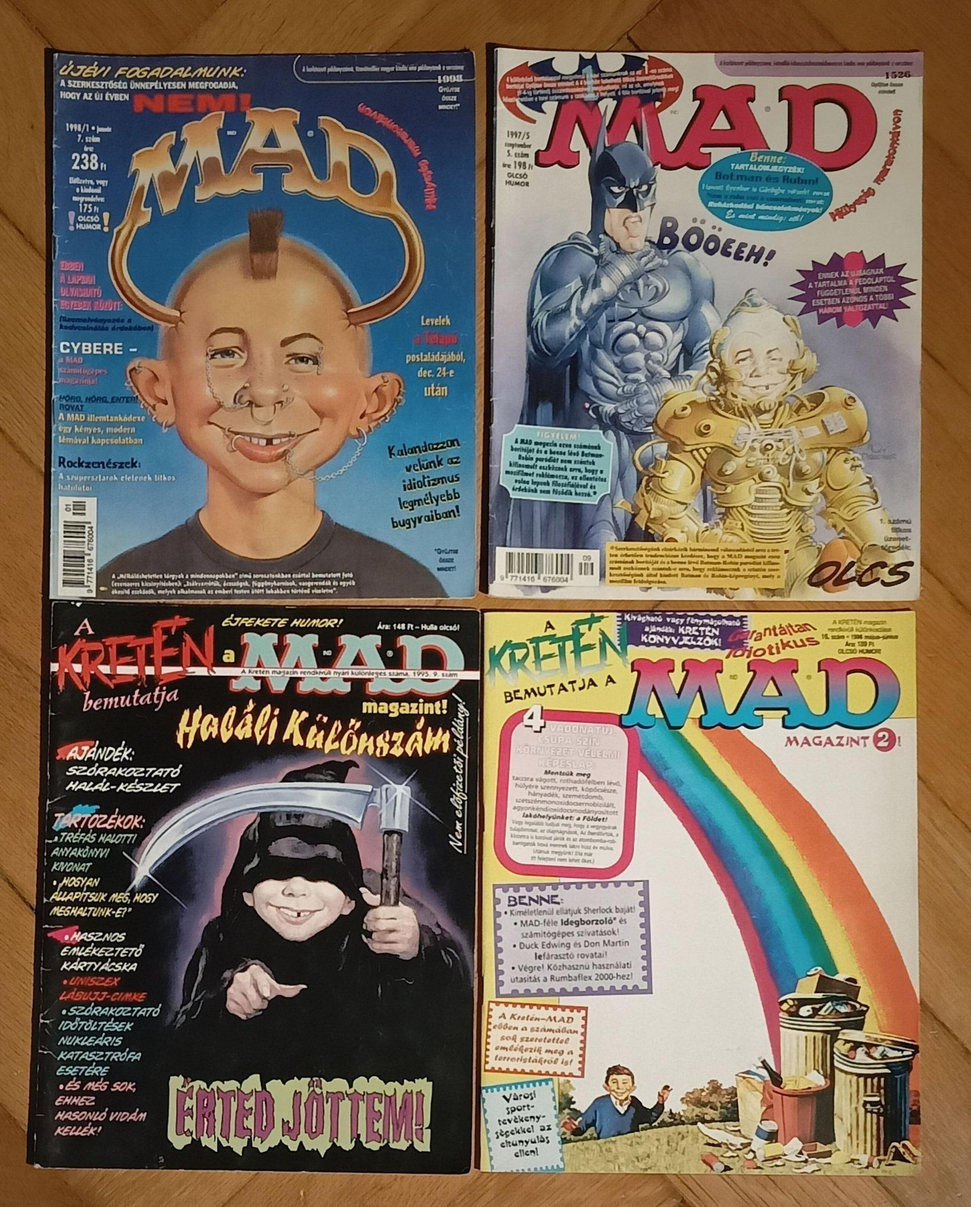comic: (28, 601, 482, 1173), (480, 610, 919, 1178), (488, 48, 922, 602), (48, 52, 477, 602)
